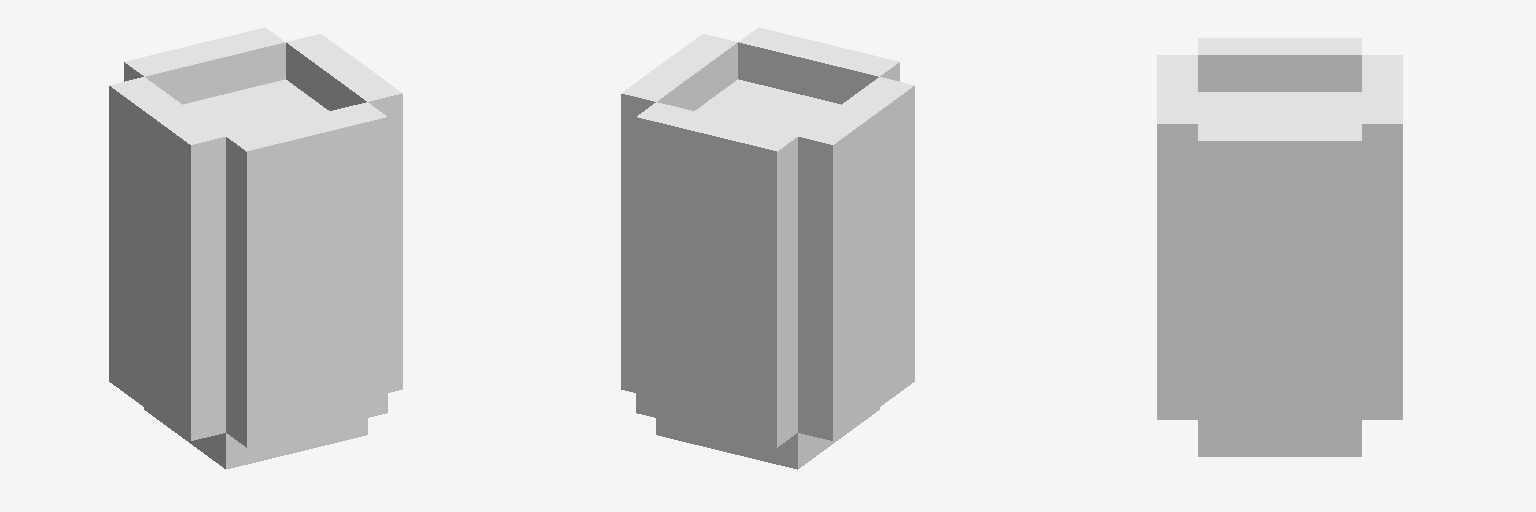
Rendered from prop_glass_water.obj.
The picture shows the model from 3 angles: view 1: azimuth 30°, elevation 25°; view 2: azimuth 150°, elevation 25°; view 3: azimuth 270°, elevation 25°; orthographic projection.
Parts seen in each view (by area): view 1: object 1; view 2: object 1; view 3: object 1.
Boxes of the visible parts, x1=… form: object 1: x1=109, y1=27, x2=402, y2=469; object 1: x1=621, y1=27, x2=914, y2=469; object 1: x1=1157, y1=38, x2=1402, y2=456.
Size of the model in its own units: 0.6 by 0.9 by 0.6.